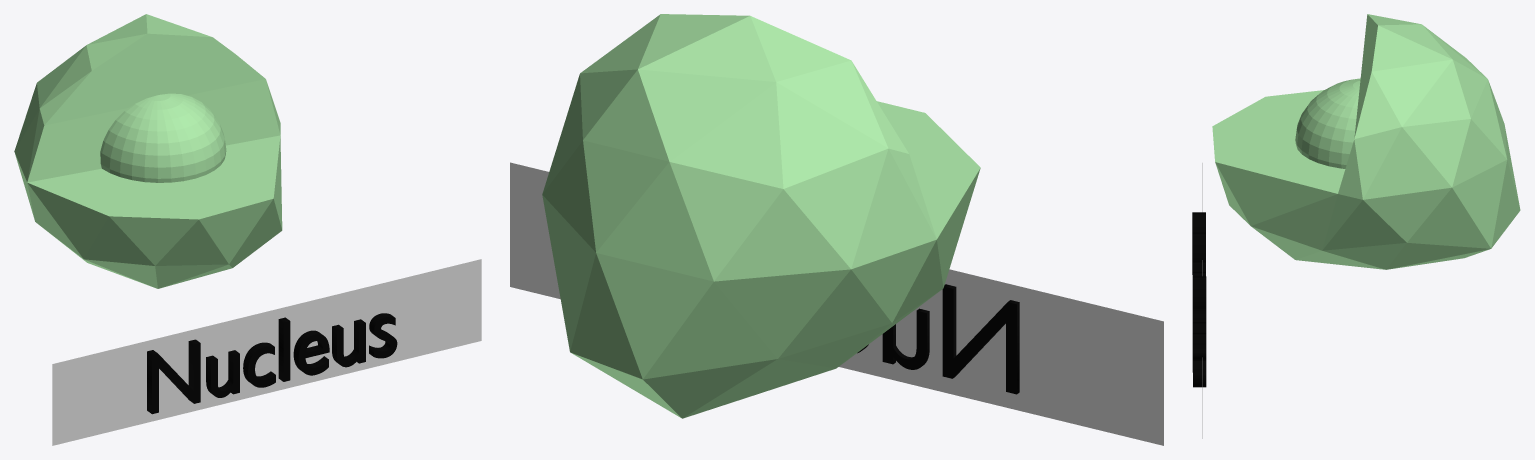
File: nucleus.gltf
3 views of the same model, side by side, from view 1: azimuth 30°, elevation 25°; view 2: azimuth 150°, elevation 25°; view 3: azimuth 270°, elevation 25° (orthographic). The views are drawn at different scales.
Visible parts, largest first — view 1: Icosphere.005, Plane.035, Text.029; view 2: Icosphere.005, Plane.035, Text.029; view 3: Icosphere.005, Text.029.
Boxes of the visible parts, left/top/right/bottom form: Icosphere.005: left=14, top=14, right=282, bottom=288; Plane.035: left=52, top=259, right=481, bottom=445; Text.029: left=147, top=313, right=397, bottom=414; Icosphere.005: left=542, top=14, right=980, bottom=418; Plane.035: left=510, top=162, right=1163, bottom=445; Text.029: left=857, top=284, right=1019, bottom=394; Icosphere.005: left=1212, top=14, right=1520, bottom=269; Text.029: left=1192, top=212, right=1206, bottom=387.
Bounding box in the file's own units: 1.33 × 0.8987 × 0.887.
